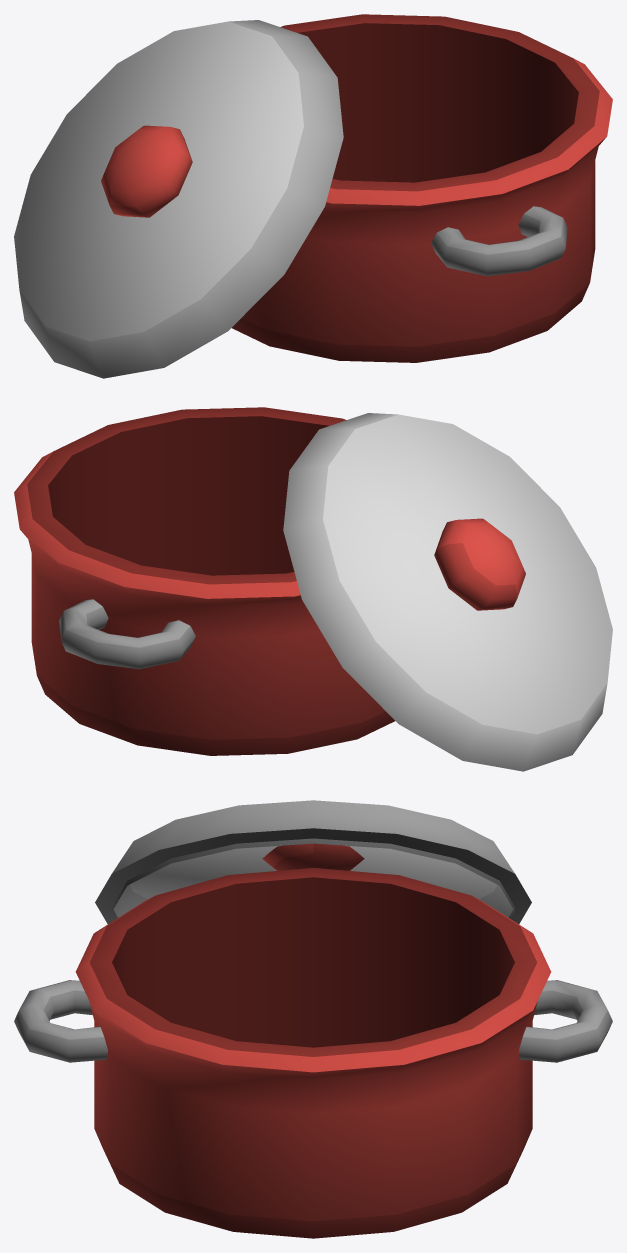
The model's file is pot-opened.fbx.
The picture shows the model from 3 angles, top to bottom: view 1: azimuth 30°, elevation 25°; view 2: azimuth 150°, elevation 25°; view 3: azimuth 270°, elevation 25°; orthographic projection. The views are drawn at different scales.
Parts seen in each view (by area): view 1: Circle, Circle.001; view 2: Circle, Circle.001; view 3: Circle, Circle.001.
Boxes of the visible parts, x1,y1,x2,y2 form: Circle: (232,14,612,362); Circle.001: (14,20,343,378); Circle: (14,407,394,755); Circle.001: (283,413,612,771); Circle: (14,868,612,1238); Circle.001: (95,800,531,924).
Bounding box in the file's own units: 314 × 152 × 285.
